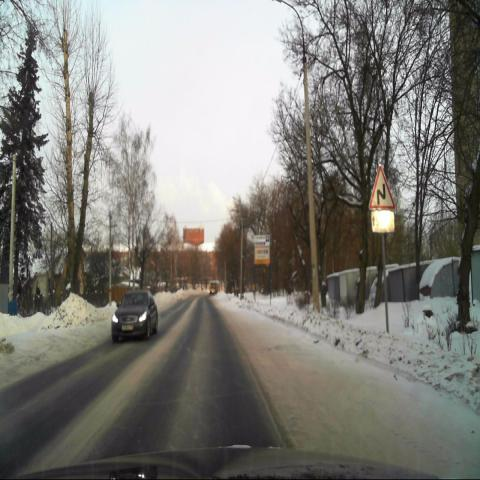1_12: (369, 166, 395, 211)
